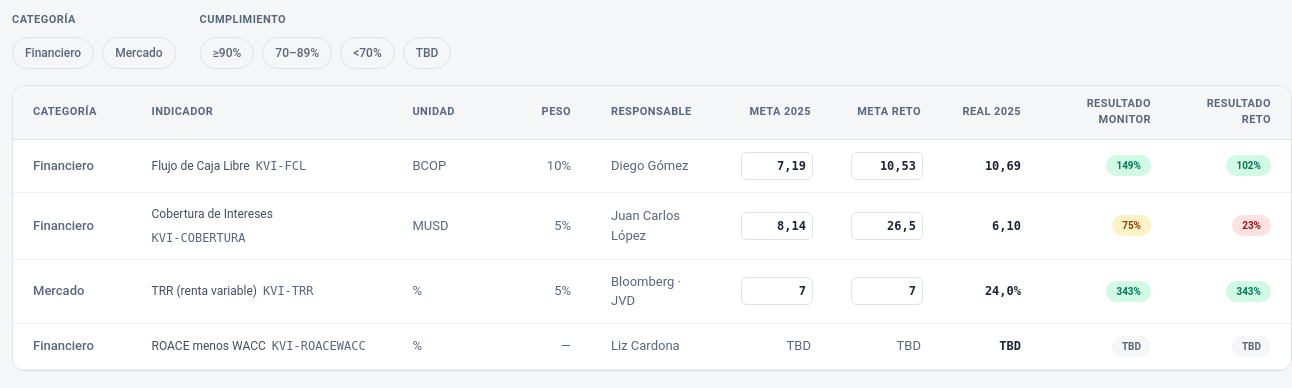
it: KviTable › filters › filters rows by compliance band, ANDed with the category group
Click the button "70–89%" at (297, 52), box [262,36,332,68]
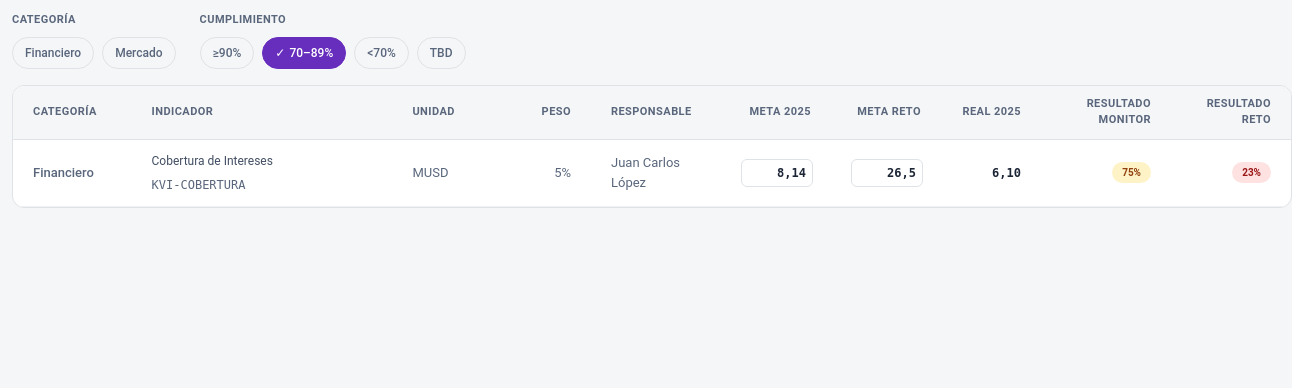
Expected: the button "Cobertura de Intereses" is shown, [152,152,273,170]
Now the button "Flujo de Caja Libre" is gone
Now the button "TRR (renta variable)" is gone
